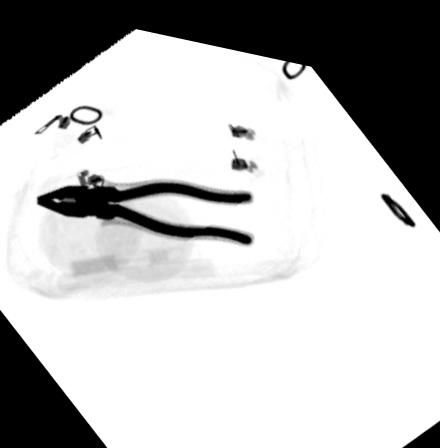Pliers: (35, 169, 254, 236)
